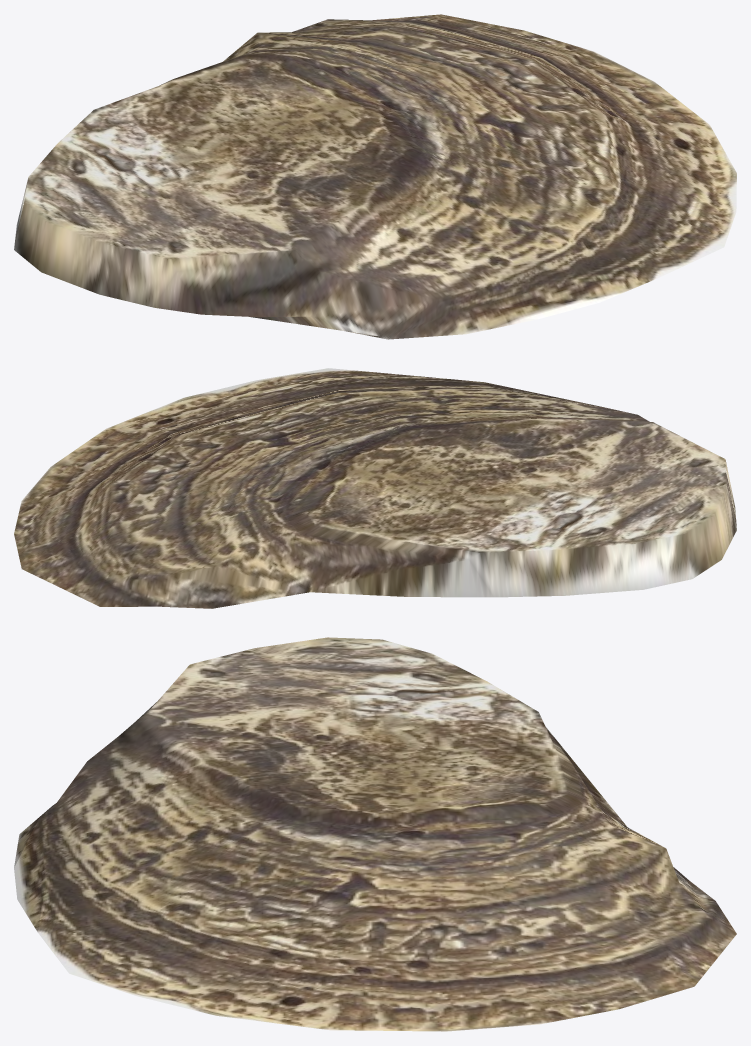
Rendered from oyster.fbx.
The picture shows the model from 3 angles, top to bottom: view 1: azimuth 30°, elevation 25°; view 2: azimuth 150°, elevation 25°; view 3: azimuth 270°, elevation 25°; orthographic projection. The views are drawn at different scales.
Visible parts, largest first — view 1: pCube1; view 2: pCube1; view 3: pCube1.
Part boxes in pixels (x1,y1,x2,y2): pCube1: [14, 14, 736, 339]; pCube1: [14, 368, 736, 608]; pCube1: [14, 637, 736, 1031].
Size of the model in its own units: 0.7497 by 0.0709 by 0.6889.
